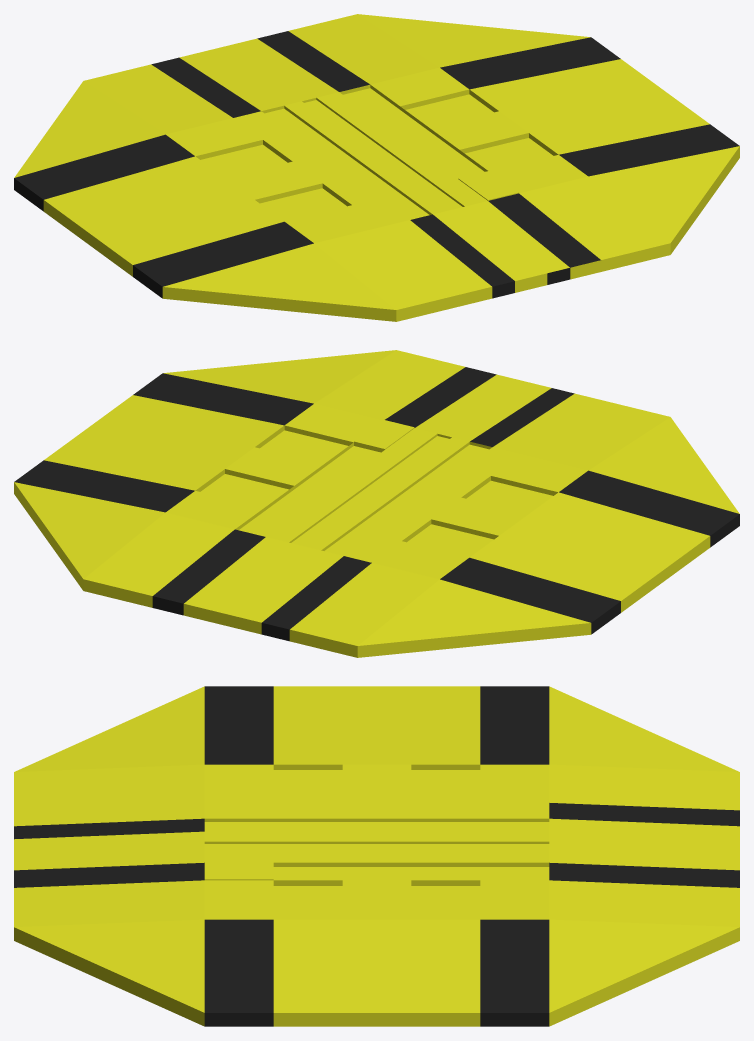
File: KeyCard.fbx
The picture shows the model from 3 angles, top to bottom: view 1: azimuth 30°, elevation 25°; view 2: azimuth 150°, elevation 25°; view 3: azimuth 270°, elevation 25°; orthographic projection. The views are drawn at different scales.
Parts seen in each view (by area): view 1: Keycard; view 2: Keycard; view 3: Keycard.
Part boxes in pixels (bbox=[...]): Keycard: bbox=[14, 14, 739, 321]; Keycard: bbox=[14, 350, 739, 657]; Keycard: bbox=[14, 686, 739, 1026].
Bounding box in the file's own units: 156 × 6.67 × 147.
